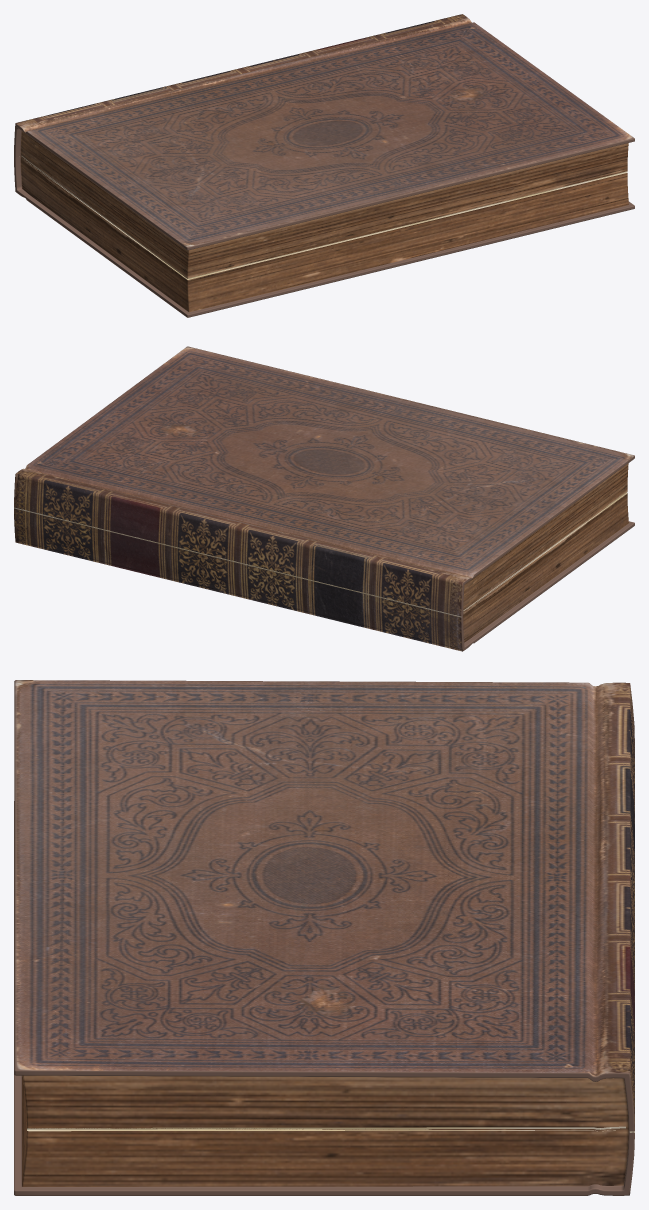
File: book.glb
3 renders of one model, top to bottom at view 1: azimuth 30°, elevation 25°; view 2: azimuth 150°, elevation 25°; view 3: azimuth 270°, elevation 25°, orthographic. The views are drawn at different scales.
Parts seen in each view (by area): view 1: ClassicBook01.001, ClassicBook01, ClassicBook01.002; view 2: ClassicBook01.001, ClassicBook01, ClassicBook01.002; view 3: ClassicBook01.001, ClassicBook01, ClassicBook01.002.
Part boxes in pixels (x1,y1,x2,y2): ClassicBook01.001: (14, 14, 634, 278); ClassicBook01: (14, 156, 634, 317); ClassicBook01.002: (21, 155, 627, 278); ClassicBook01.001: (14, 346, 634, 618); ClassicBook01: (14, 493, 634, 651); ClassicBook01.002: (14, 491, 627, 617); ClassicBook01.001: (14, 680, 634, 1134); ClassicBook01: (14, 801, 634, 1195); ClassicBook01.002: (27, 1126, 634, 1132).
Bounding box in the file's own units: 0.3 × 0.0452 × 0.2016.
2 materials, 2 textured.
